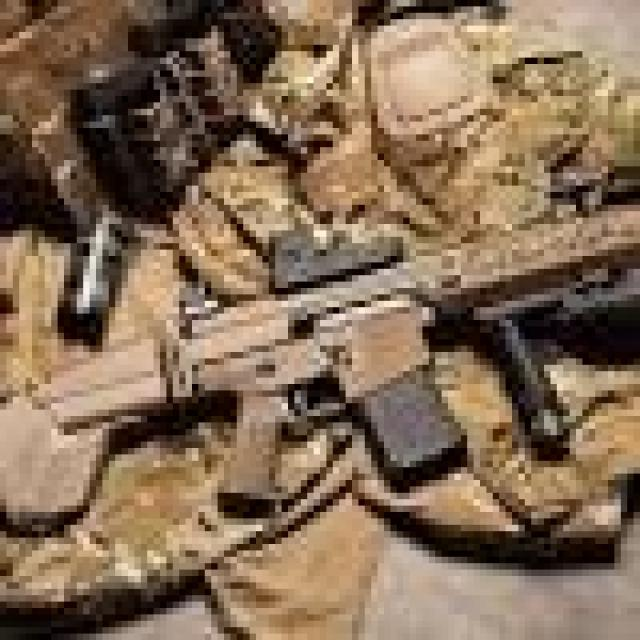Gun: (13, 213, 640, 521)
